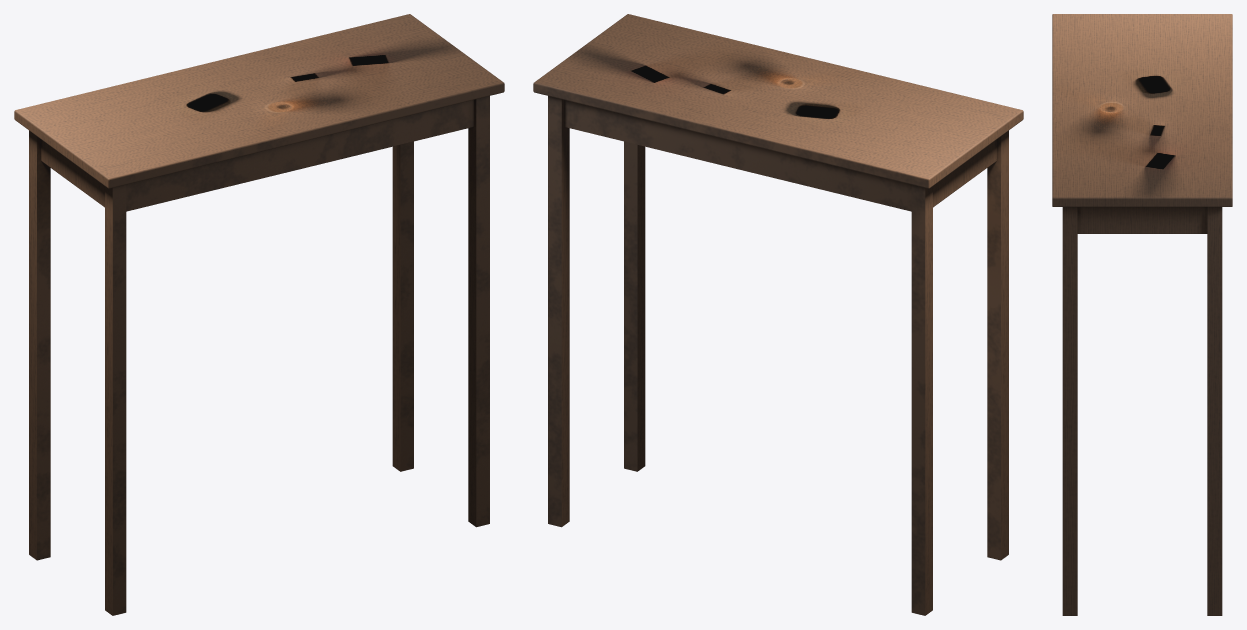
Rendered from 809_hook.glb.
3 views of the same model, side by side, from view 1: azimuth 30°, elevation 25°; view 2: azimuth 150°, elevation 25°; view 3: azimuth 270°, elevation 25° (orthographic). The views are drawn at different scales.
Visible parts, largest first — view 1: Table; view 2: Table; view 3: Table.
Boxes of the visible parts, x1=… form: Table: x1=14, y1=14, x2=504, y2=615; Table: x1=533, y1=14, x2=1023, y2=615; Table: x1=1052, y1=14, x2=1232, y2=615.
Size of what is drawn, in the model's own units: 2.9 by 3.1 by 1.2.
1 material, 1 textured.
